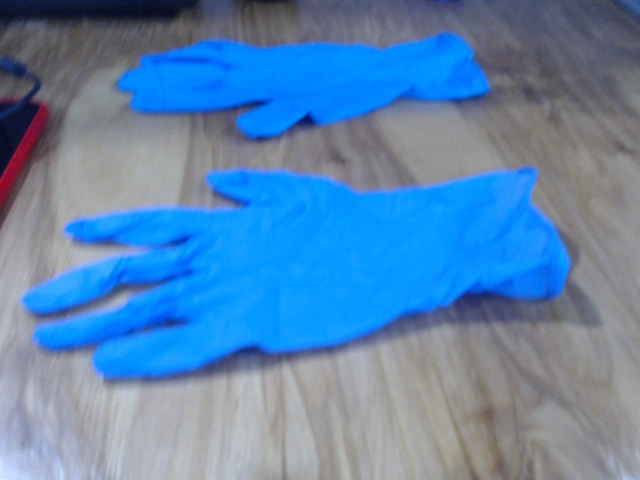medical_glove: (21, 168, 572, 377), (120, 30, 490, 138)
